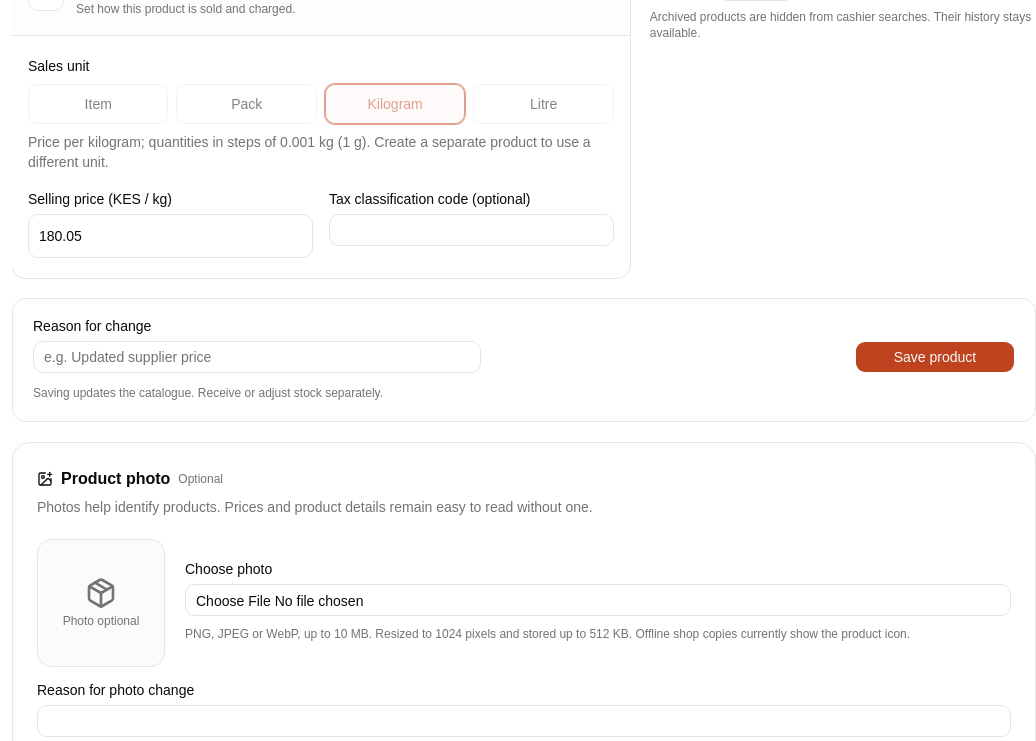
Scenario: keeps the sales unit fixed and reports a stale edit without success
(page scrolled)
Check: the button "Item" is disabled, box [28, 84, 168, 124]
Type "New shelf price" into the field labelled "Reason for change". click: x=257, y=357
box: [33, 341, 481, 373]
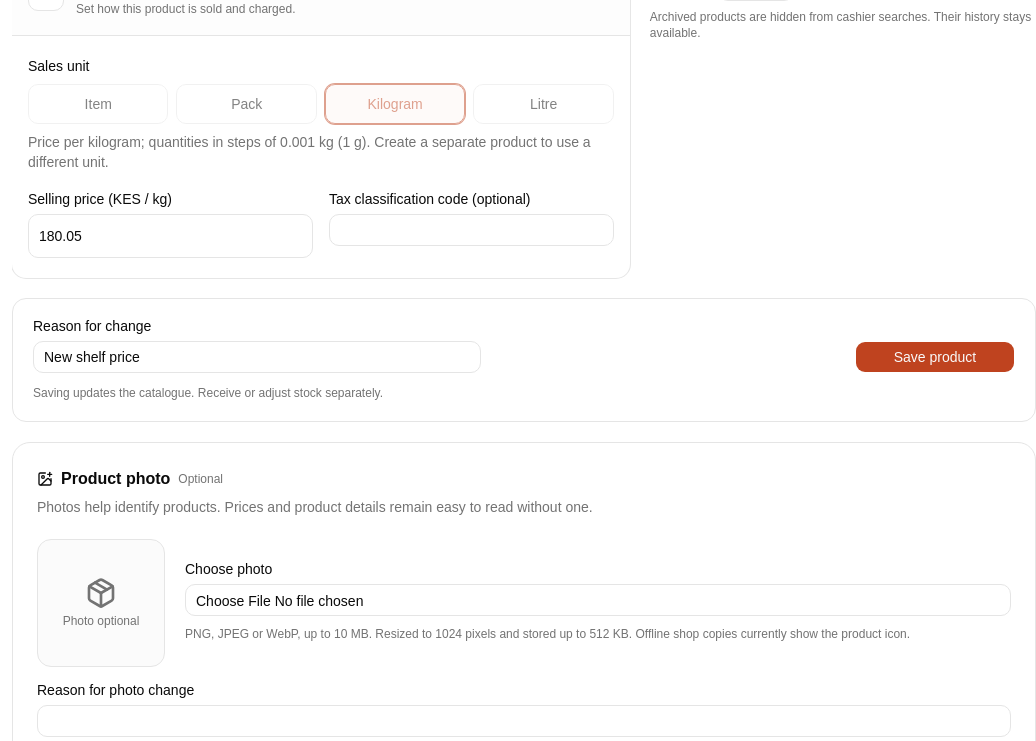
Click the button "Save product". click: x=935, y=357
box: [855, 341, 1015, 373]
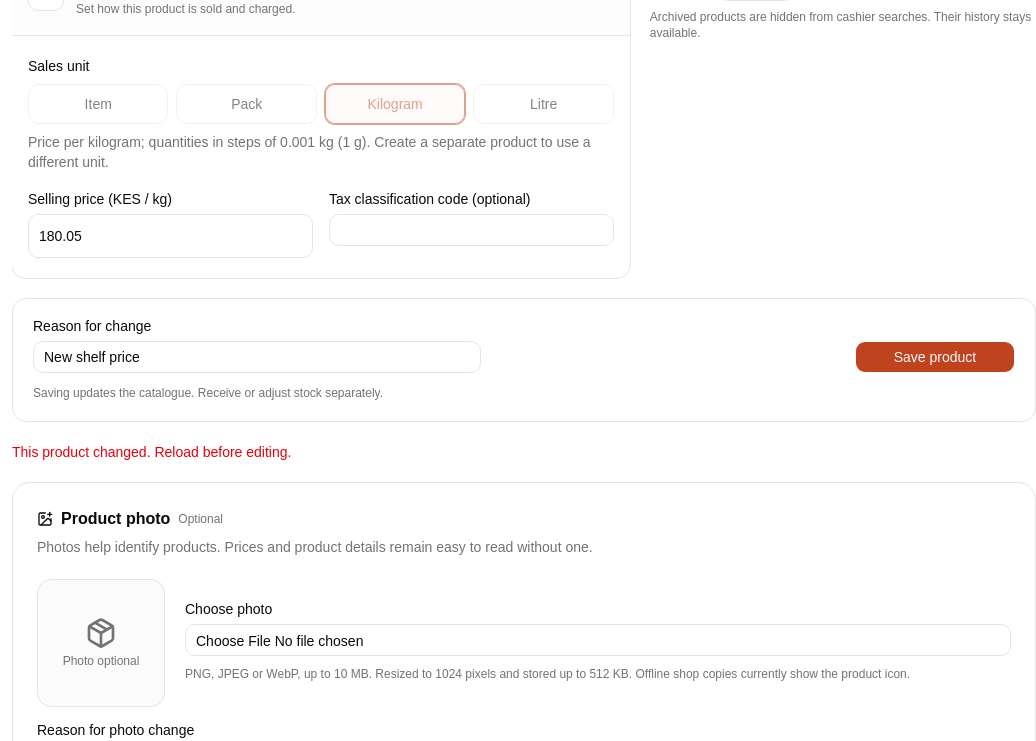
Check: the message shows "Reload", box [12, 444, 291, 460]
